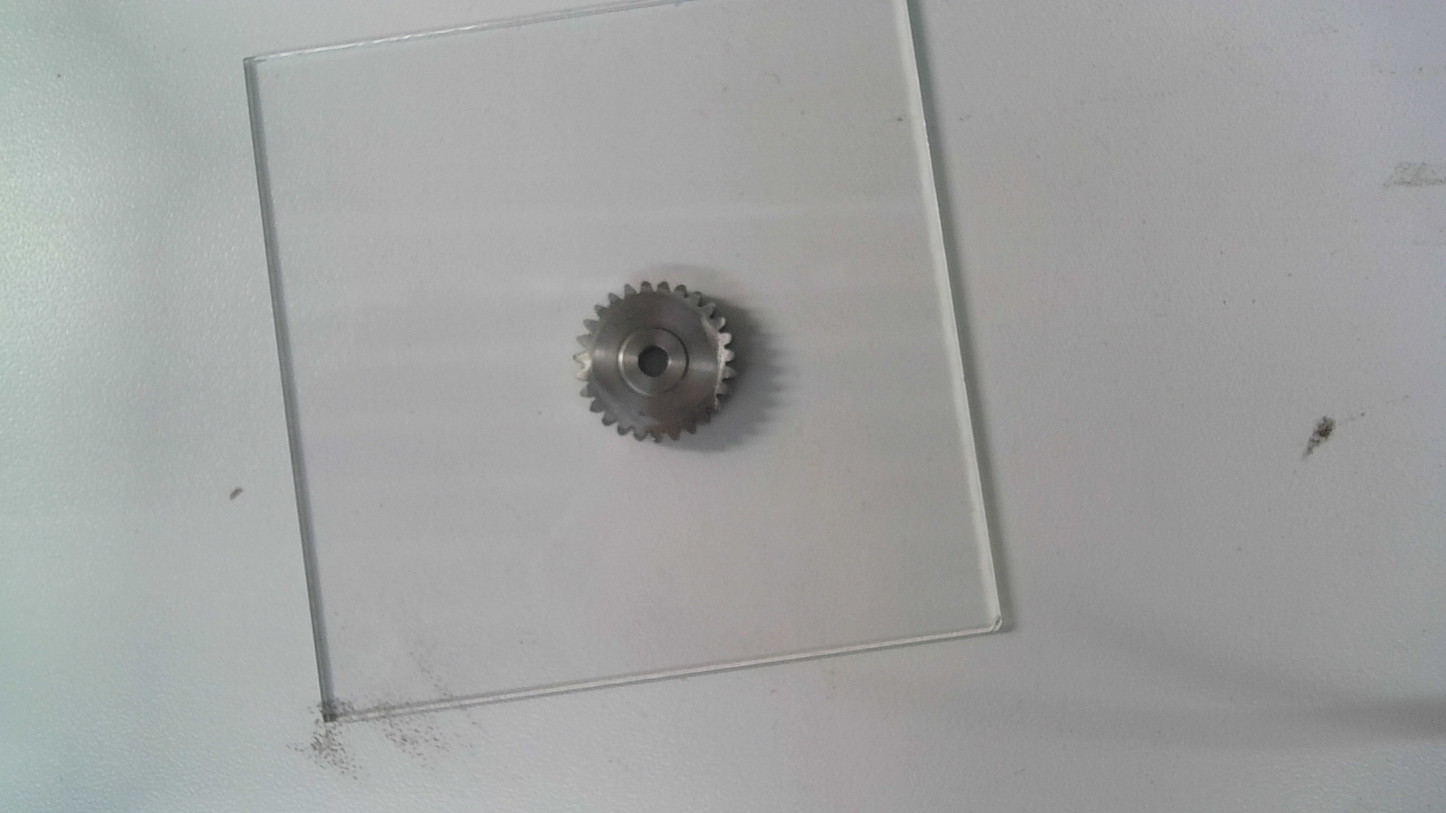gear: (574, 281, 741, 441)
